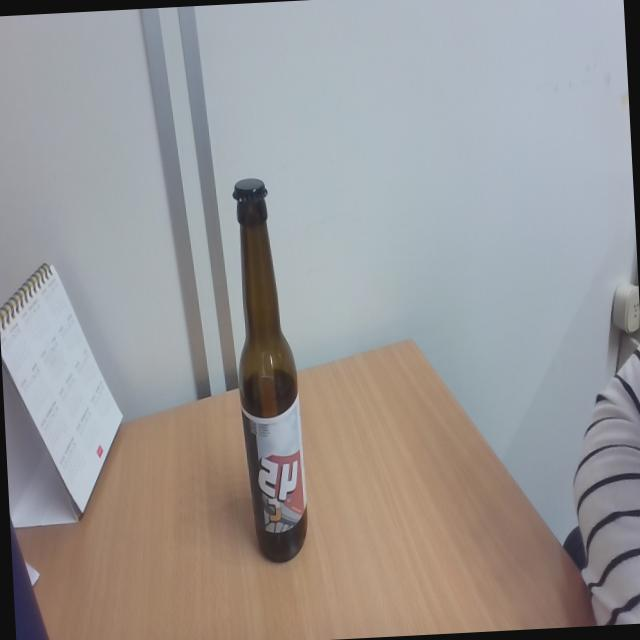Bottle: (227, 174, 310, 566)
Cap: (229, 174, 271, 207)
Label: (244, 406, 306, 537)
